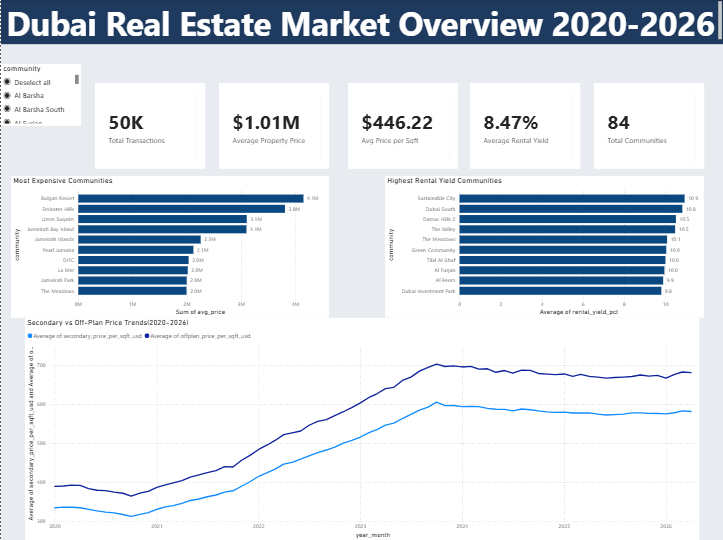

This screenshot's page, from the dashboard's own definition file:
{"tool":"powerbi","page":{"name":"Executive Overview","canvas":[1600,1200],"ordinal":0},"visuals":[{"type":"cardVisual","fields":{"Data":["uae_real_estate vw_community_summary.Total Transactions"]},"box":[207.3,185.4,243.9,190.2],"z":1000},{"type":"cardVisual","fields":{"Data":["uae_real_estate vw_sales_analysis.Average Property Price"]},"box":[482.9,185.4,243.9,190.2],"z":2000},{"type":"cardVisual","fields":{"Data":["uae_real_estate vw_sales_analysis.Avg Price per Sqft"]},"box":[768.3,185.4,243.9,190.2],"z":3000},{"type":"cardVisual","fields":{"Data":["uae_real_estate vw_rental_yield.Average Rental Yield"]},"box":[1039,185.4,243.9,190.2],"z":4000},{"type":"cardVisual","fields":{"Data":["uae_real_estate vw_community_summary.Total Communities"]},"box":[1312.2,185.4,243.9,190.2],"z":5000},{"type":"clusteredBarChart","title":"Most Expensive Communities","fields":{"Category":["uae_real_estate vw_community_summary.community"],"Y":["Sum(uae_real_estate vw_community_summary.avg_price)"]},"box":[22.1,391.9,704.1,314.4],"z":6000},{"type":"clusteredBarChart","title":"Highest Rental Yield Communities","fields":{"Category":["uae_real_estate vw_rental_yield.community"],"Y":["Avg(uae_real_estate vw_rental_yield.rental_yield_pct)"]},"box":[850.2,391.9,706.3,314.4],"z":7000},{"type":"lineChart","title":"Secondary vs Off-Plan Price Trends(2020-2026)","fields":{"Y":["Avg(area_prices_monthly.secondary_price_per_sqft_usd)","Avg(area_prices_monthly.offplan_price_per_sqft_usd)"],"Category":["area_prices_monthly.year_month"]},"box":[53.7,707.3,1492.7,492.7],"z":8000},{"type":"textbox","box":[0,0,1600.7,99.6],"z":9000},{"type":"listSlicer","fields":{"Values":["area_prices_monthly.community"]},"box":[0,143.9,177.1,137.3],"z":11000}]}

Visuals, with their boxes in screenshot pixels (x1, y1, x2, y2), scaled from the page's 1600x1200 canvas onto the 723x540 screenshot:
cardVisual - uae_real_estate vw_community_summary.Total Transactions: region(94, 83, 204, 169)
cardVisual - uae_real_estate vw_sales_analysis.Average Property Price: region(218, 83, 328, 169)
cardVisual - uae_real_estate vw_sales_analysis.Avg Price per Sqft: region(347, 83, 457, 169)
cardVisual - uae_real_estate vw_rental_yield.Average Rental Yield: region(469, 83, 580, 169)
cardVisual - uae_real_estate vw_community_summary.Total Communities: region(593, 83, 703, 169)
"Most Expensive Communities" clusteredBarChart: region(10, 176, 328, 318)
"Highest Rental Yield Communities" clusteredBarChart: region(384, 176, 703, 318)
"Secondary vs Off-Plan Price Trends(2020-2026)" lineChart: region(24, 318, 699, 539)
textbox: region(0, 0, 722, 45)
listSlicer - area_prices_monthly.community: region(0, 65, 80, 127)
